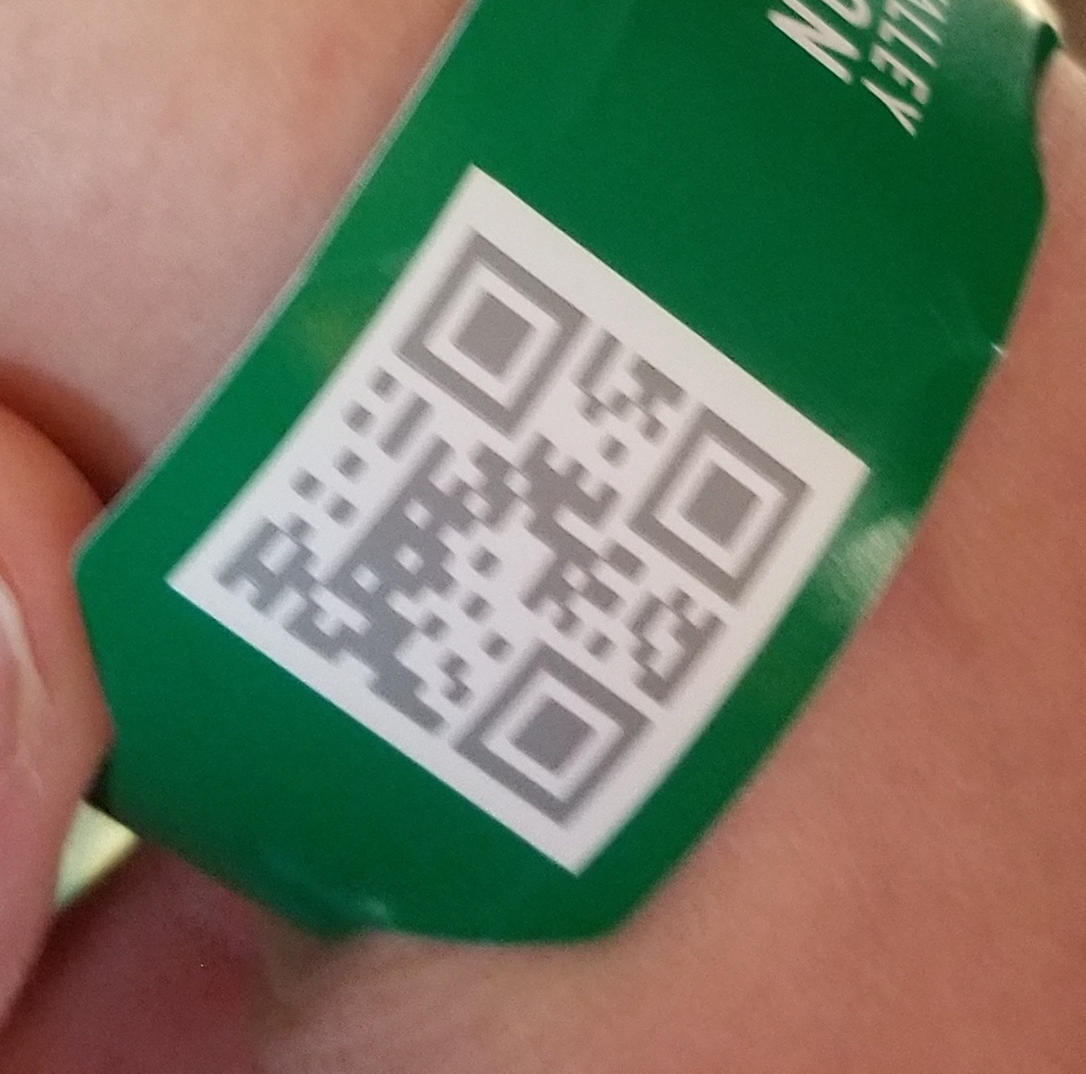QR_CODE: (202, 198, 823, 842)
